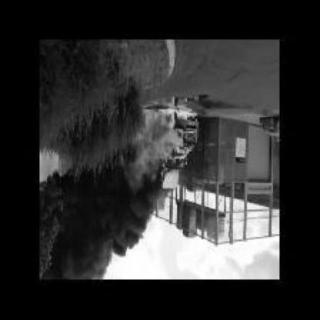Smoke: (40, 169, 162, 281)
